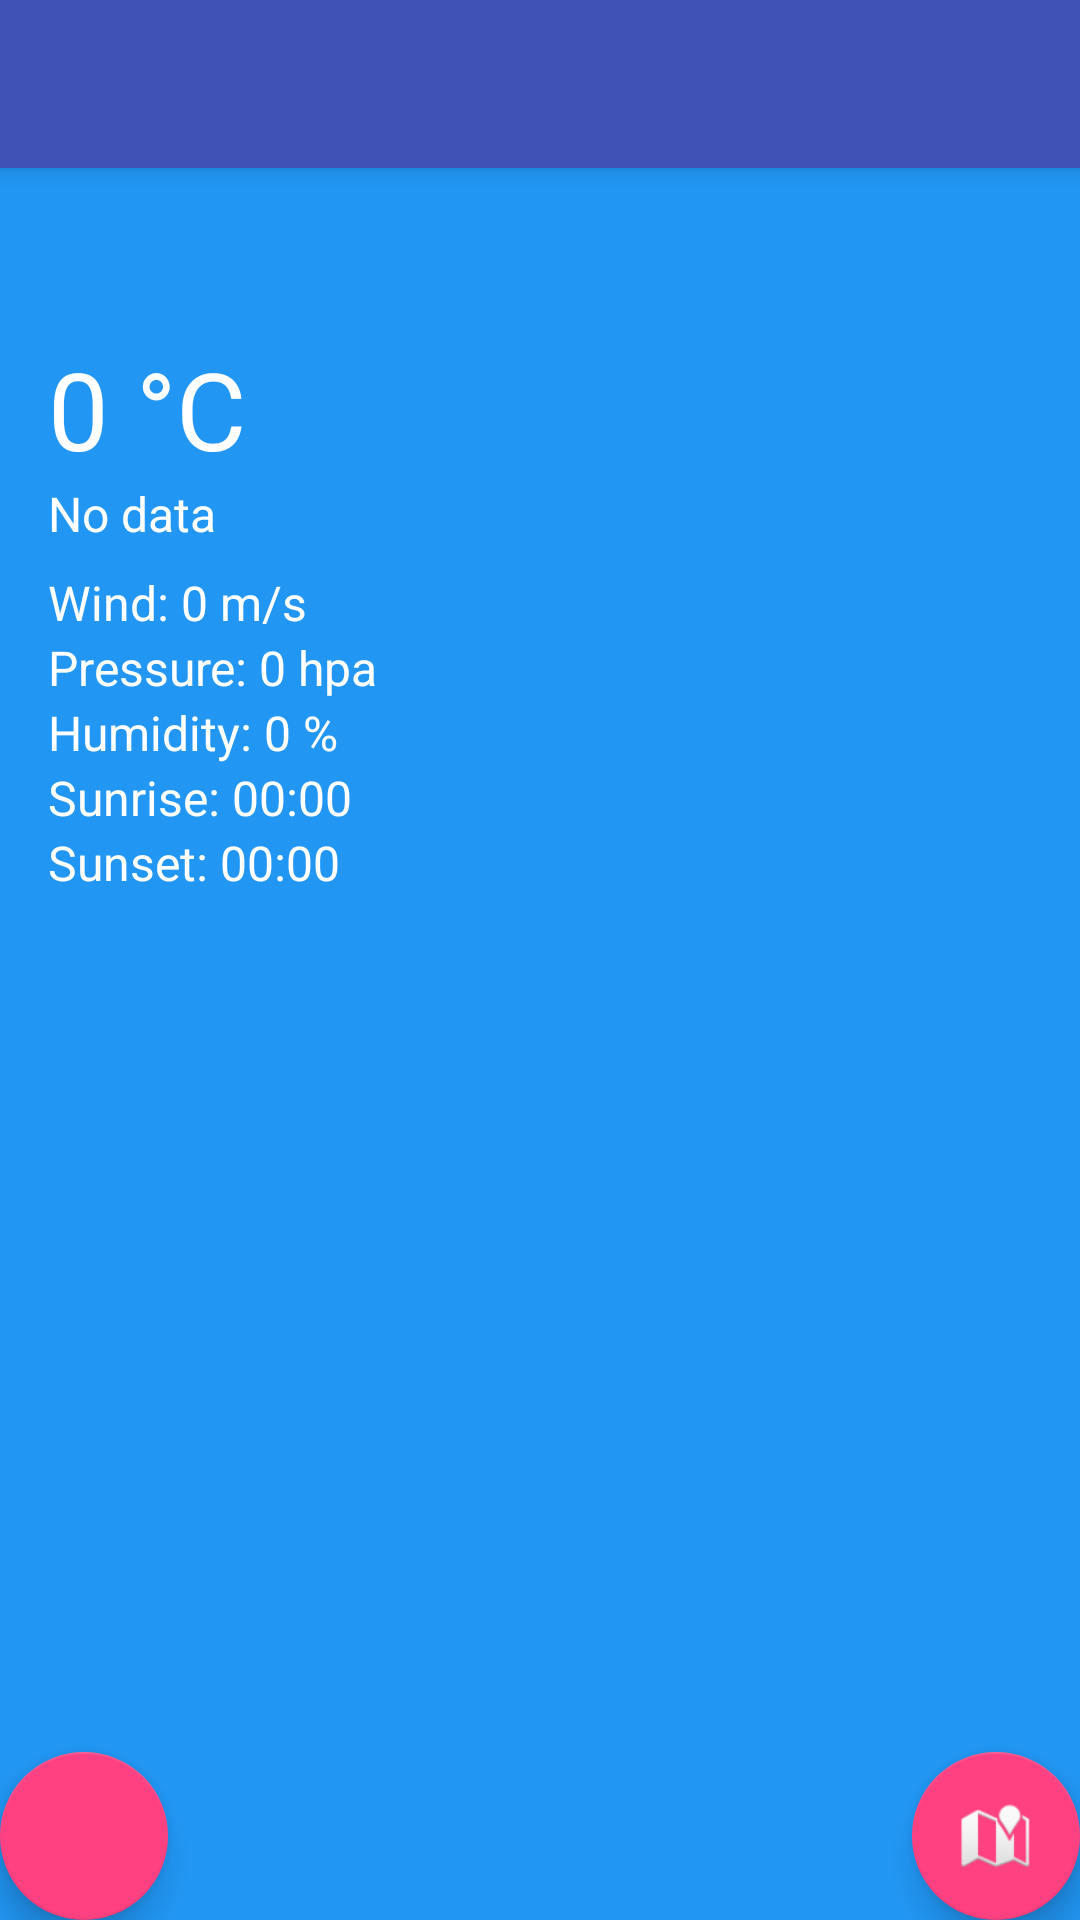

Where to tap for icons on this 1080px x 1920px app screen, as [x,y]:
map: [996,1836]
